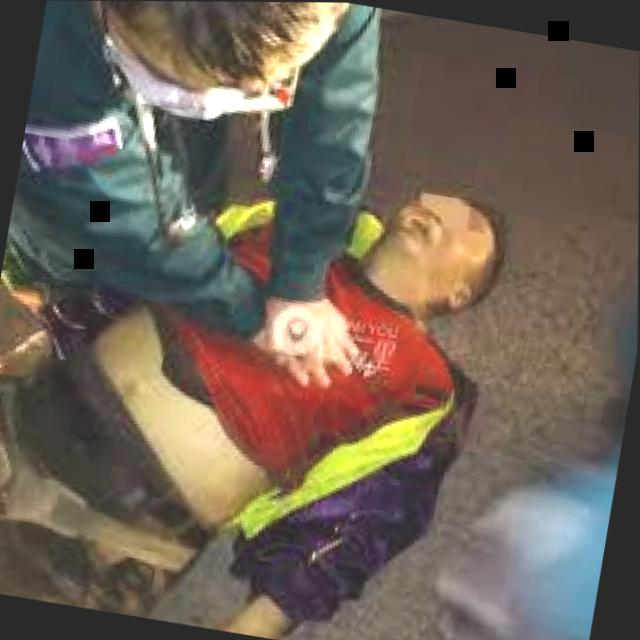Fall-Detected: (0, 99, 500, 640)
